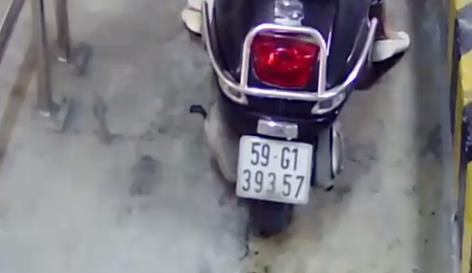lisence: (237, 133, 312, 205)
